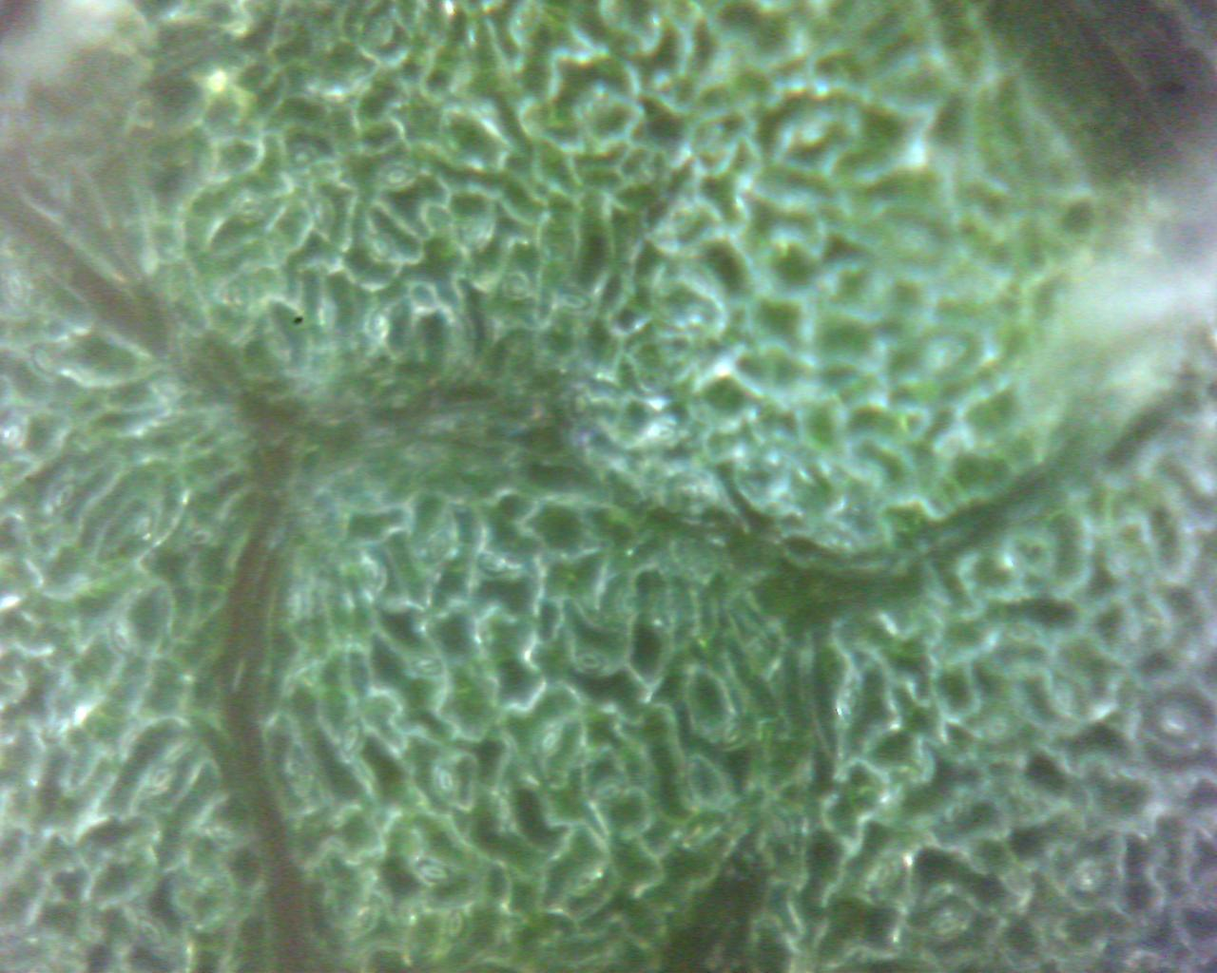stomata: (339, 718, 365, 761), (417, 860, 453, 887), (379, 163, 415, 190), (361, 560, 390, 593), (235, 192, 268, 221), (1001, 623, 1037, 648), (648, 421, 681, 448), (616, 588, 643, 621), (556, 288, 589, 315), (443, 909, 468, 944), (479, 554, 512, 580), (31, 347, 58, 378), (575, 648, 606, 673), (114, 621, 134, 658), (367, 310, 393, 338), (465, 219, 491, 247), (721, 722, 746, 751), (142, 917, 167, 946), (1051, 683, 1073, 715), (45, 716, 72, 742), (370, 234, 396, 261), (934, 915, 963, 939), (154, 379, 184, 402), (55, 481, 78, 511), (3, 418, 25, 449), (866, 860, 891, 887), (6, 272, 26, 305), (436, 766, 457, 797), (537, 731, 561, 758), (428, 531, 449, 560), (187, 527, 216, 548), (506, 277, 530, 302), (942, 799, 965, 825), (1075, 866, 1102, 887), (413, 657, 442, 676), (597, 782, 625, 801), (131, 515, 154, 538), (152, 767, 173, 792)
